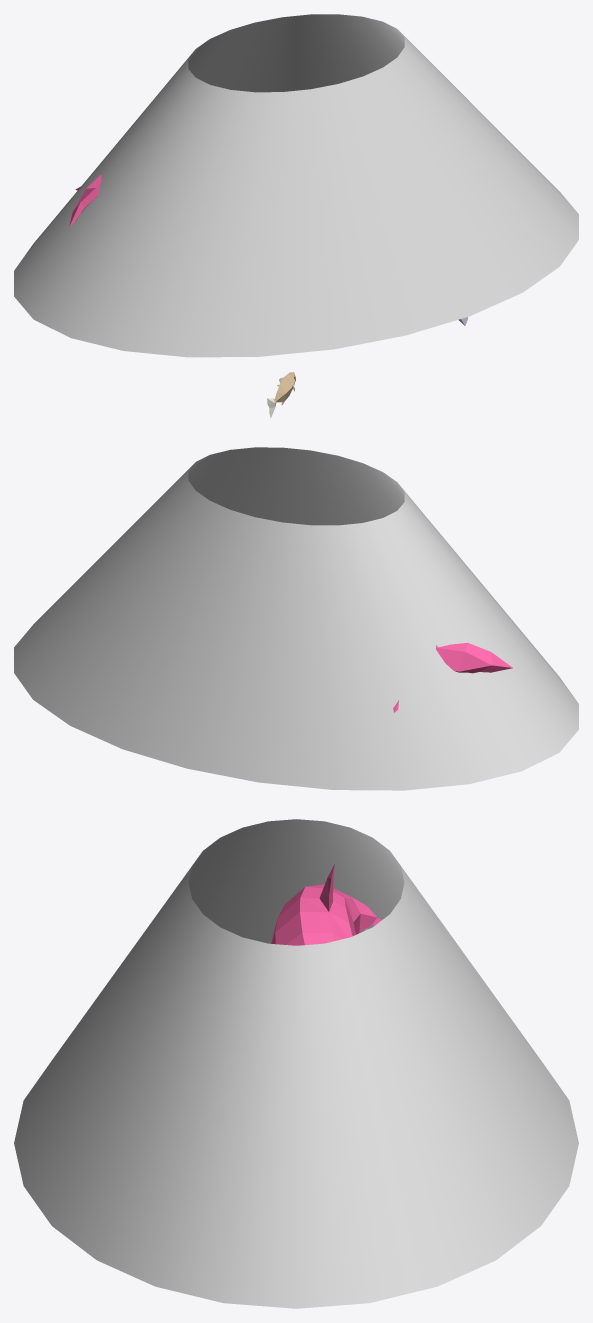
File: 0025_grandBlue.fbx
3 renders of one model, top to bottom at view 1: azimuth 30°, elevation 25°; view 2: azimuth 150°, elevation 25°; view 3: azimuth 270°, elevation 25°, orthographic. The views are drawn at different scales.
Visible parts, largest first — view 1: LightCone, Fish01, Dolphin; view 2: LightCone, Dolphin; view 3: LightCone, Dolphin.
Part boxes in pixels (left/top/right/bottom): LightCone: left=14, top=14, right=578, bottom=357; Fish01: left=267, top=372, right=295, bottom=418; Dolphin: left=69, top=173, right=103, bottom=226; LightCone: left=14, top=447, right=578, bottom=790; Dolphin: left=393, top=642, right=512, bottom=712; LightCone: left=14, top=819, right=578, bottom=1308; Dolphin: left=271, top=864, right=381, bottom=945.
Size of the model in its own units: 10.36 by 5.04 by 7.47.
